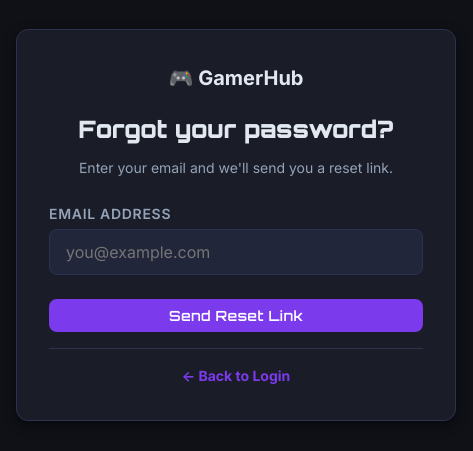
Test case: ForgotPasswordPage — validation › shows an error when submitted with an invalid email format
This screenshot has width=473, height=451.
In the field labelled "Email address": (236, 252) 49,229 -> 423,275, type "notanemail"
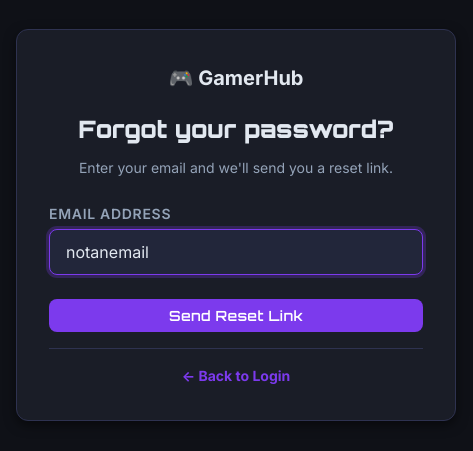
Click the button "Send Reset Link": click(236, 316) 49,299 -> 423,332
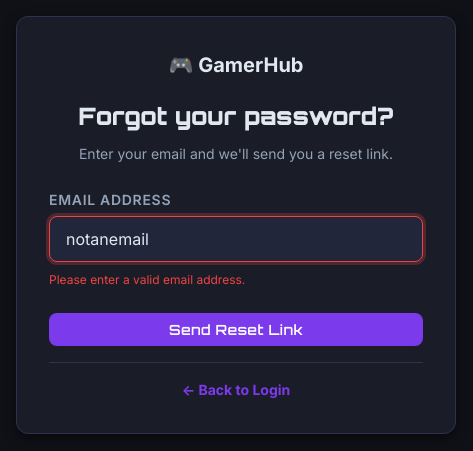
Check: the text "Please enter a valid email address." is shown, box 49,272 -> 245,287
